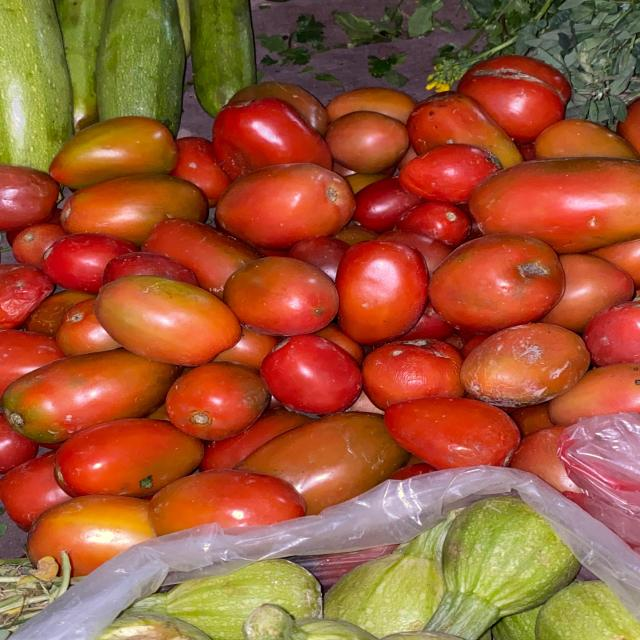paper: (0, 0, 640, 631), (97, 522, 628, 640), (421, 481, 581, 640), (6, 335, 194, 429), (228, 414, 414, 508), (459, 157, 640, 249), (419, 219, 577, 322), (84, 0, 184, 149), (0, 0, 64, 189), (226, 175, 364, 245)
